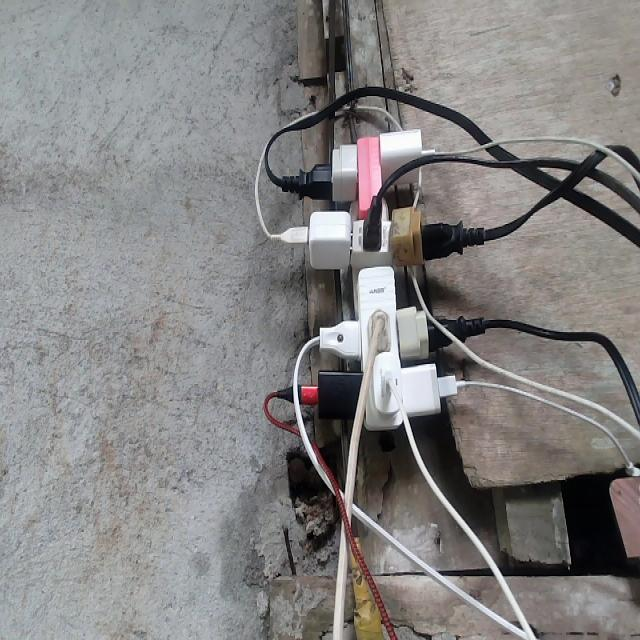-: (269, 126, 475, 430)
